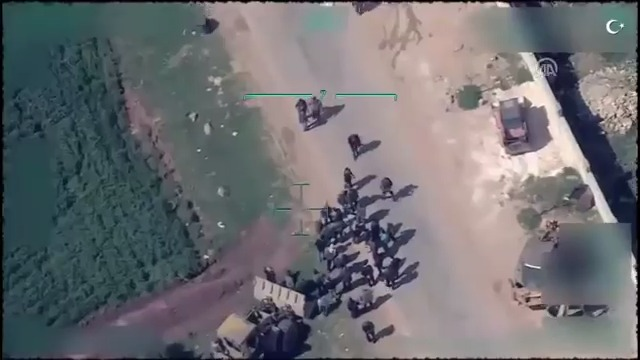insan: (378, 172, 400, 207), (346, 128, 368, 161), (358, 315, 382, 344)
